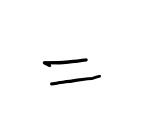eqv: (43, 58, 101, 86)
